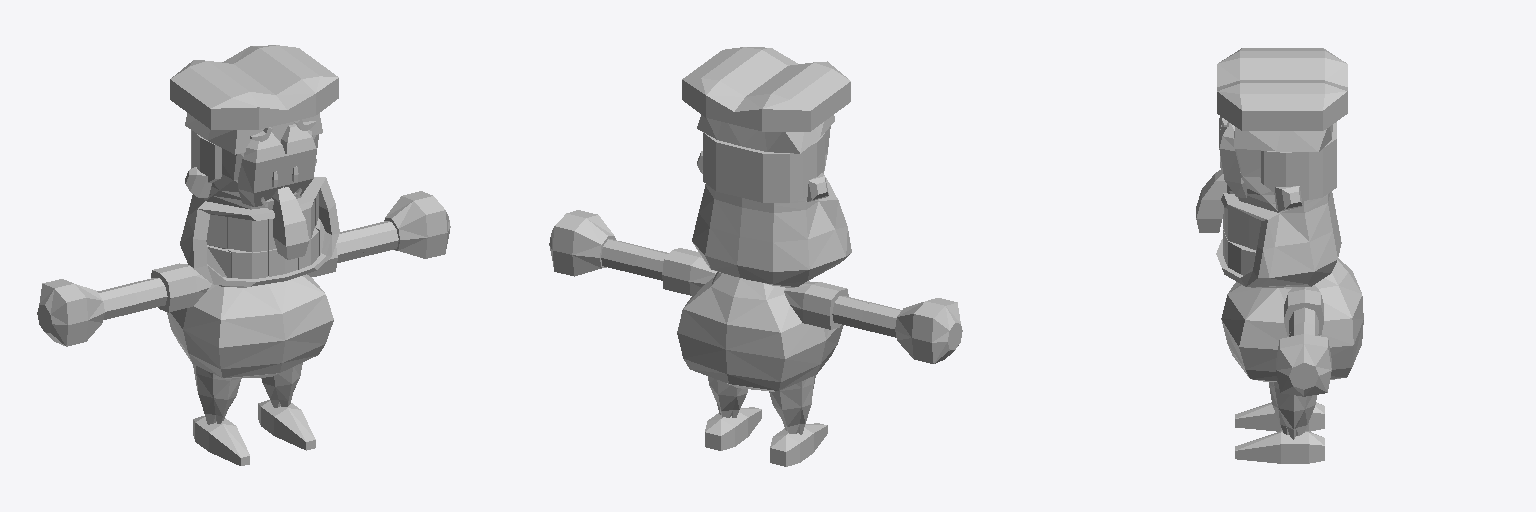
The model's file is PeppinoLowPoly.obj.
3 renders of one model, left to right at view 1: azimuth 30°, elevation 25°; view 2: azimuth 150°, elevation 25°; view 3: azimuth 270°, elevation 25°, orthographic.
Visible parts, largest first — view 1: Cube.010; view 2: Cube.010; view 3: Cube.010.
Boxes of the visible parts, x1=… form: Cube.010: x1=37, y1=45, x2=450, y2=465; Cube.010: x1=549, y1=47, x2=962, y2=466; Cube.010: x1=1196, y1=48, x2=1363, y2=463.
Bounding box in the file's own units: 112 × 99.9 × 40.99.